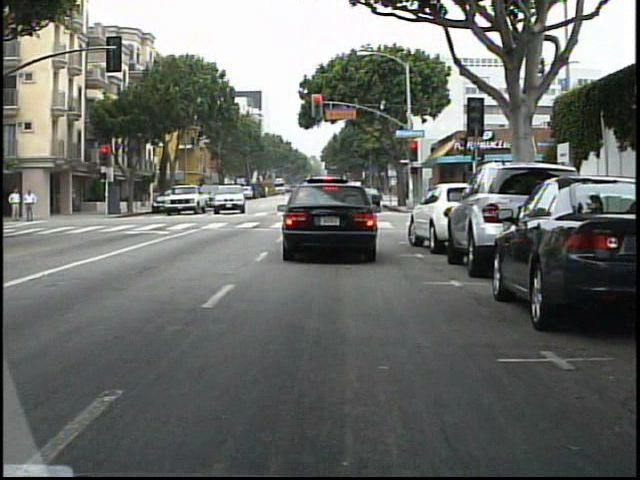person: (24, 186, 40, 223), (10, 185, 25, 223)
